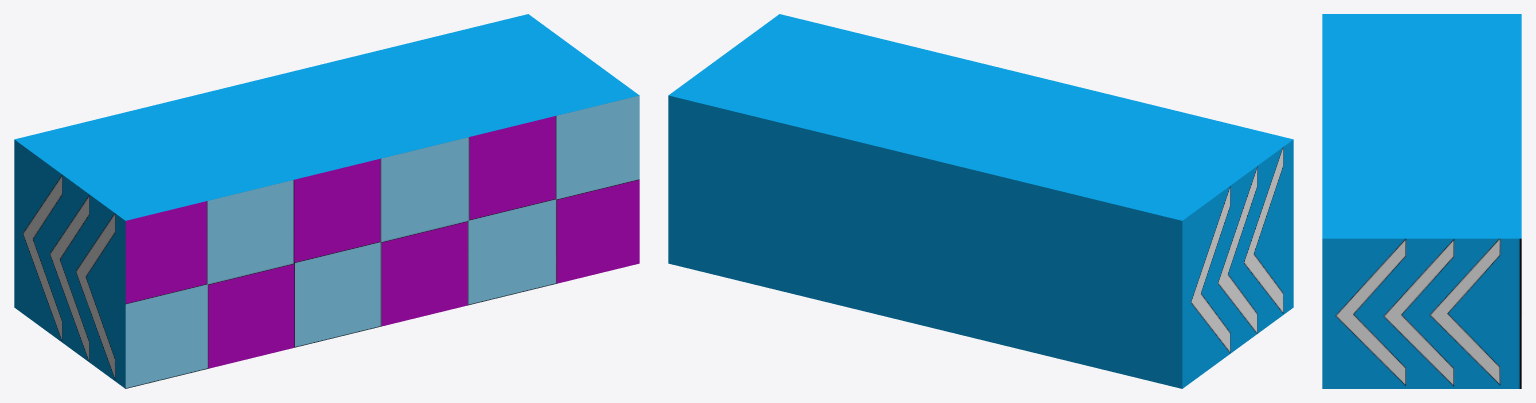
File: stage_gate.glb
The picture shows the model from 3 angles, left to right: view 1: azimuth 30°, elevation 25°; view 2: azimuth 150°, elevation 25°; view 3: azimuth 270°, elevation 25°; orthographic projection. The views are drawn at different scales.
Parts seen in each view (by area): view 1: gate.001; view 2: gate.001; view 3: gate.001.
Boxes of the visible parts, bbox=[...] form: gate.001: bbox=[14, 14, 639, 388]; gate.001: bbox=[668, 14, 1293, 388]; gate.001: bbox=[1322, 14, 1521, 388].
Size of what is drawn, in the model's own units: 8 by 2.5 by 3.
1 material, 1 textured.
